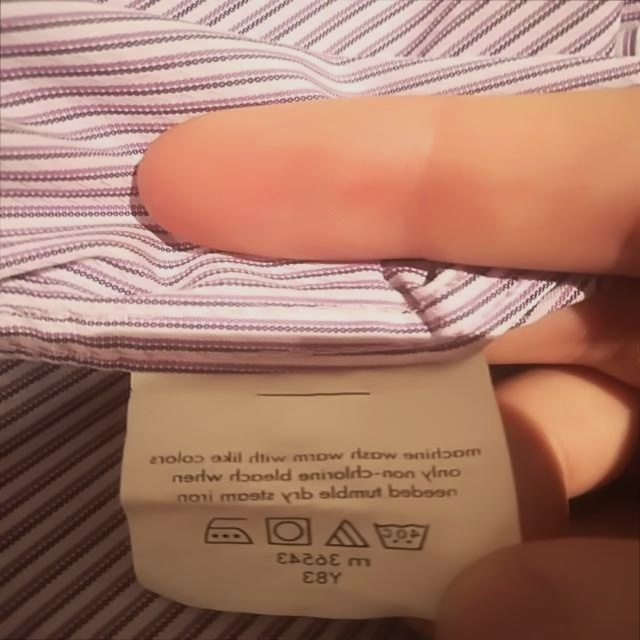40C: (371, 518, 432, 555)
iron_high: (198, 513, 253, 548)
non_chlorine_bleach: (324, 517, 370, 552)
tumble_dry_normal: (261, 516, 313, 549)
